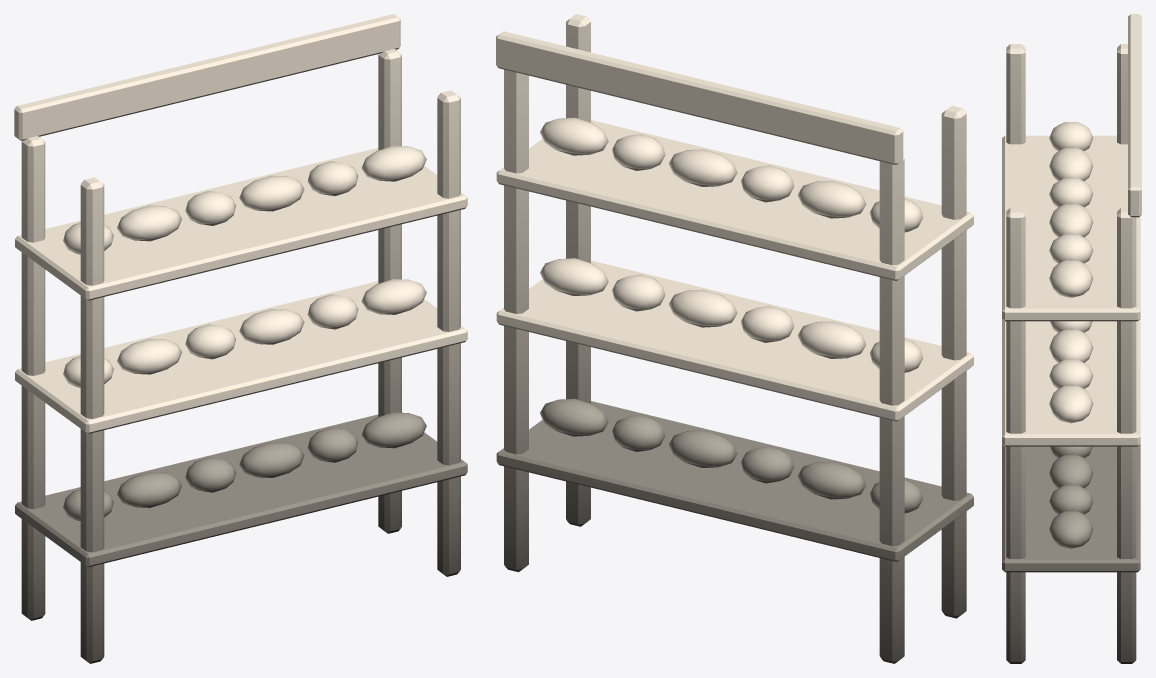
The model's file is SM_VK_Prop_BreadRack.fbx.
3 renders of one model, left to right at view 1: azimuth 30°, elevation 25°; view 2: azimuth 150°, elevation 25°; view 3: azimuth 270°, elevation 25°, orthographic. The views are drawn at different scales.
Parts seen in each view (by area): view 1: SM_VK_Prop_BreadRack.001; view 2: SM_VK_Prop_BreadRack.001; view 3: SM_VK_Prop_BreadRack.001.
Boxes of the visible parts, x1=… form: SM_VK_Prop_BreadRack.001: x1=14, y1=14, x2=467, y2=663; SM_VK_Prop_BreadRack.001: x1=496, y1=14, x2=973, y2=663; SM_VK_Prop_BreadRack.001: x1=1002, y1=14, x2=1141, y2=663.
Bounding box in the file's own units: 1.5 × 1.91 × 0.505.
